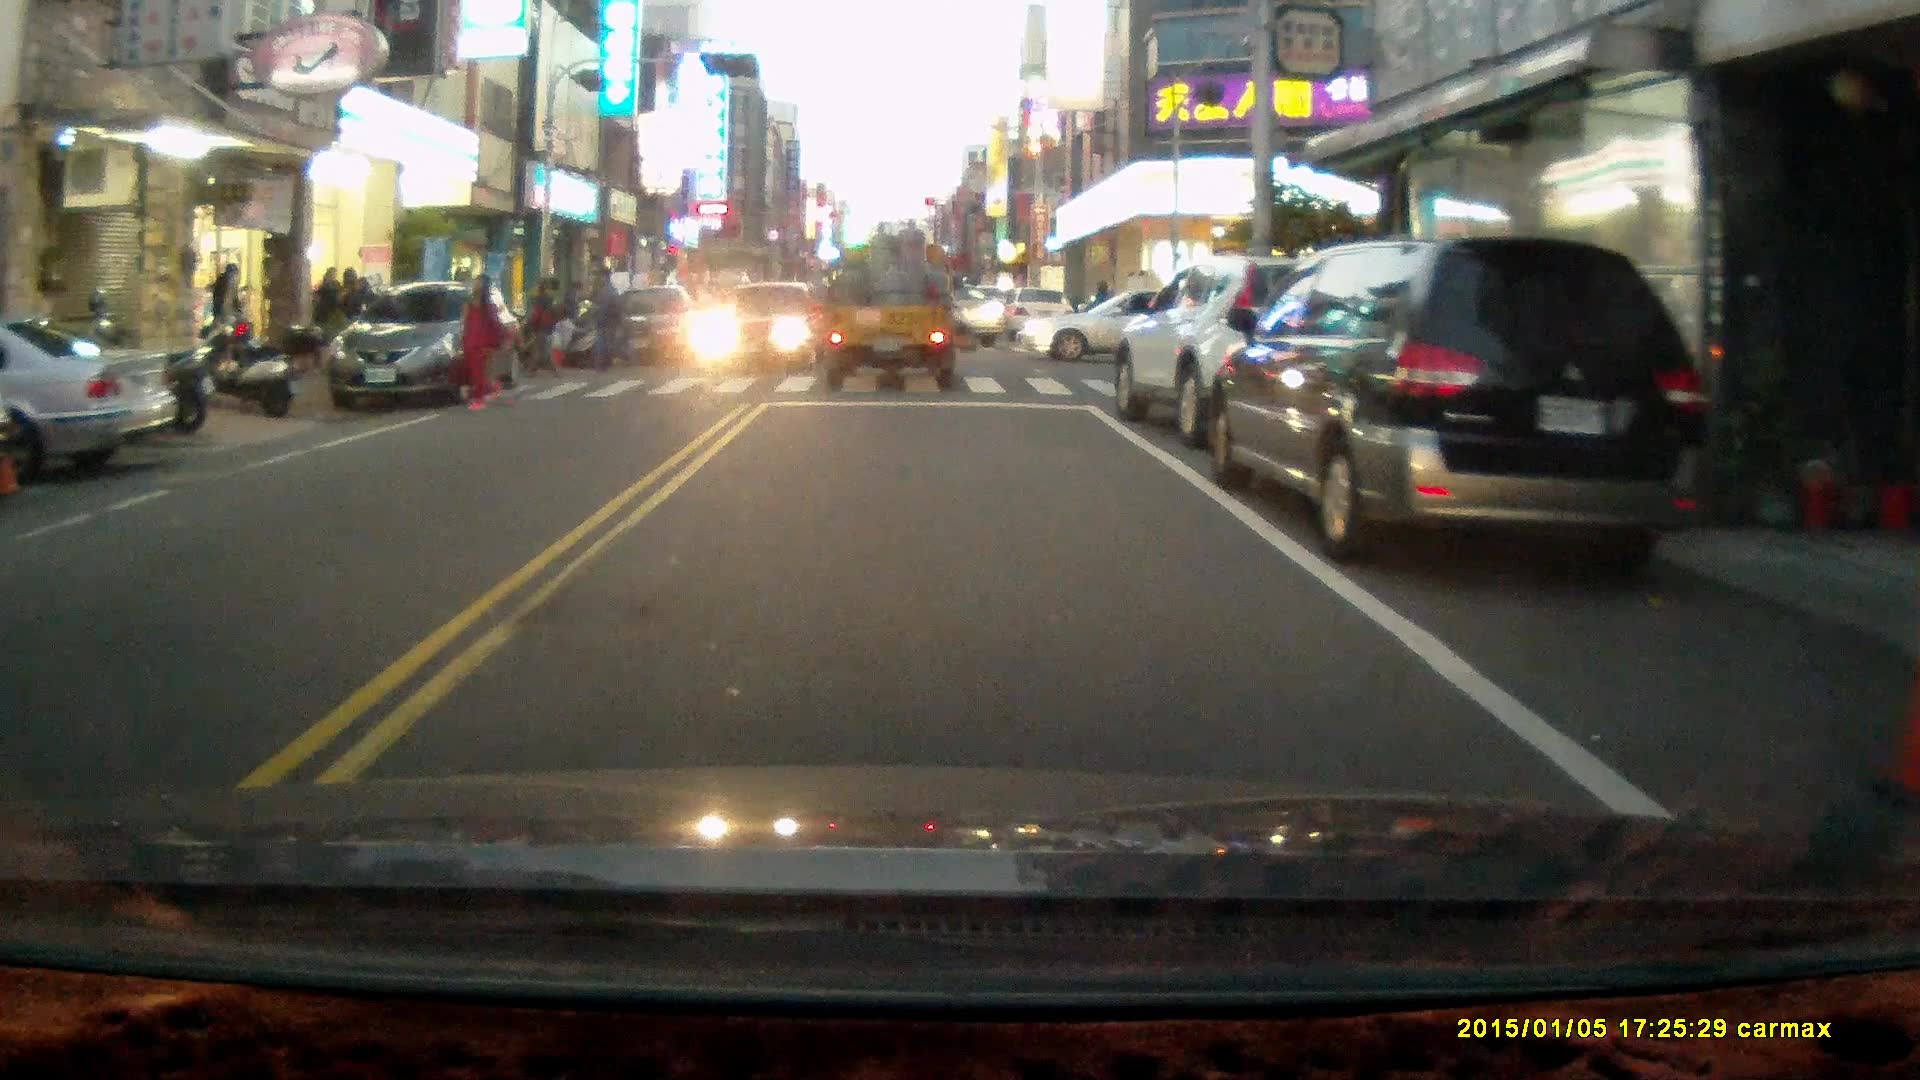pedestrian: (455, 268, 505, 413), (518, 272, 563, 385), (587, 263, 632, 374), (207, 263, 249, 363), (549, 308, 580, 372)
vehicle: (1211, 237, 1710, 577), (1109, 253, 1428, 456), (1, 317, 180, 486), (818, 223, 969, 395), (329, 284, 524, 415), (1019, 289, 1242, 367), (695, 283, 822, 370), (587, 290, 705, 376)
